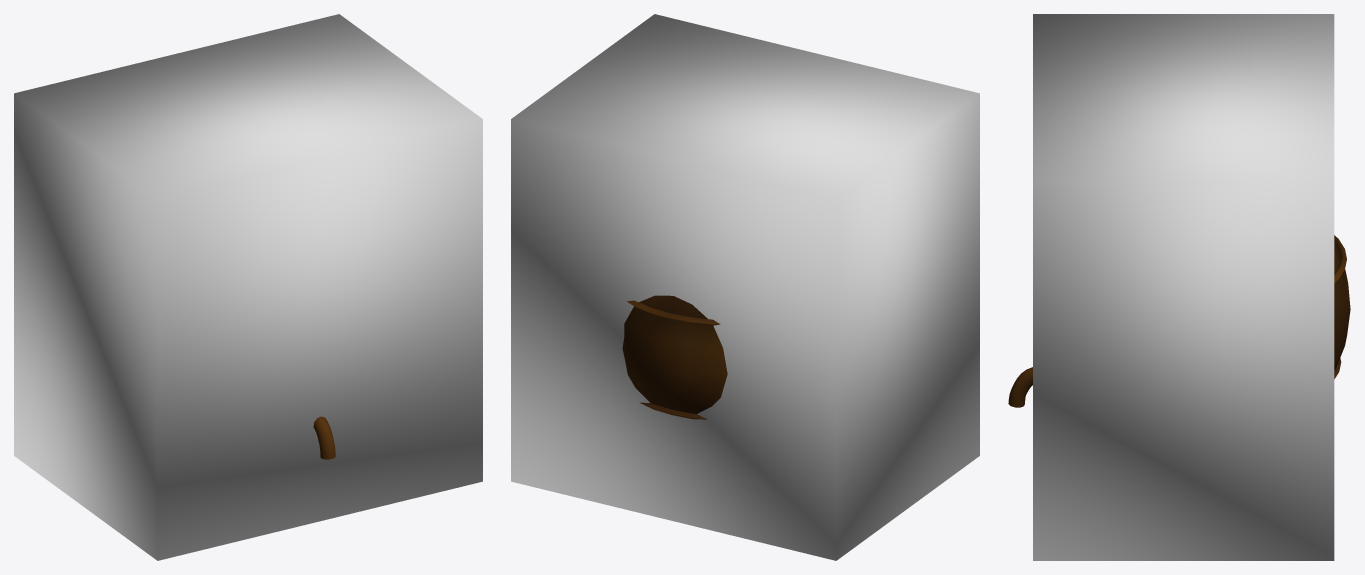
File: samovar.glb
The picture shows the model from 3 angles, left to right: view 1: azimuth 30°, elevation 25°; view 2: azimuth 150°, elevation 25°; view 3: azimuth 270°, elevation 25°; orthographic projection. The views are drawn at different scales.
Visible parts, largest first — view 1: samovar-colcaja, samovar; view 2: samovar-colcaja, samovar; view 3: samovar-colcaja, samovar.
Part boxes in pixels (box(x1,y1,x2,y2)): samovar-colcaja: box(14, 14, 482, 560); samovar: box(313, 416, 335, 459); samovar-colcaja: box(511, 14, 979, 560); samovar: box(622, 295, 727, 419); samovar-colcaja: box(1033, 14, 1334, 560); samovar: box(1008, 235, 1350, 407).
Size of the model in its own units: 0.34 by 0.362 by 0.2951.
